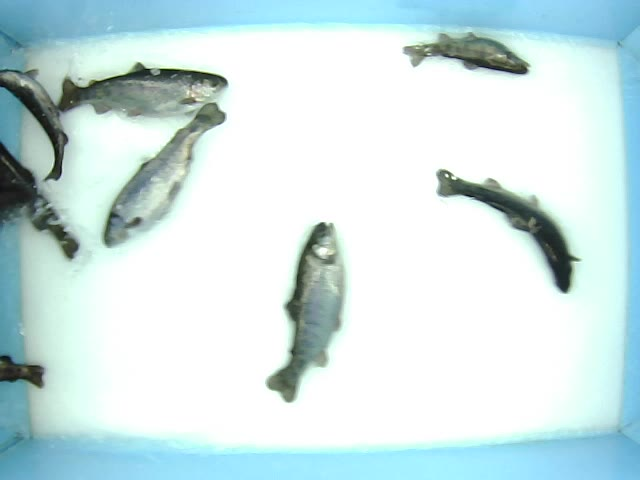fish: (435, 167, 583, 297), (100, 102, 227, 251), (265, 221, 346, 404), (57, 61, 225, 117), (1, 68, 66, 185), (400, 28, 532, 79)
